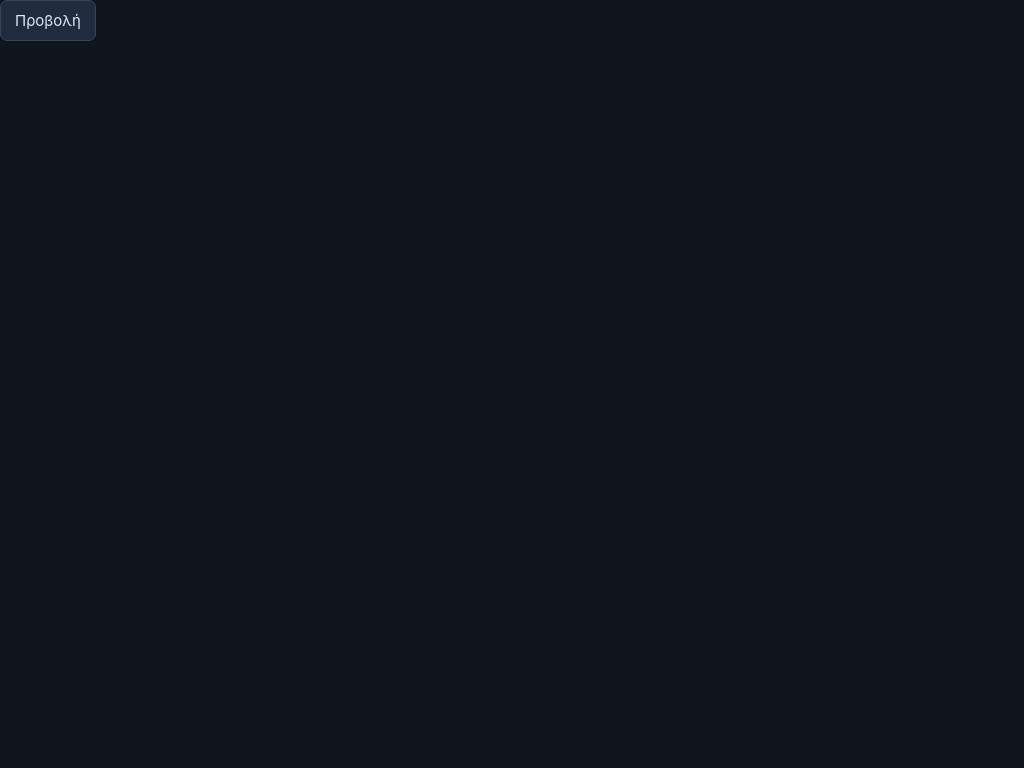
Test case: PDF preview controls and lifecycle › destroys a PDF that finishes loading after close rather than publishing stale content
Click the button "Προβολή". click: (48, 20)
box: [0,0,96,41]
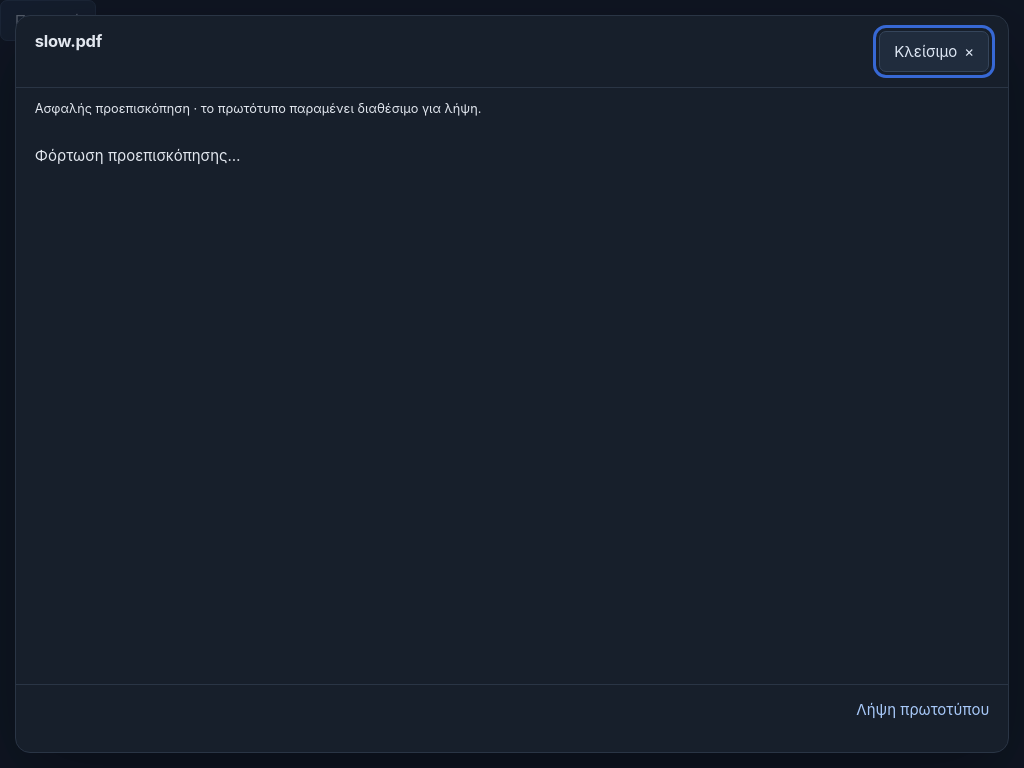
Click the button with aria-label "Κλείσιμο προεπισκόπησης". click: (934, 52)
box: [879,31,989,72]
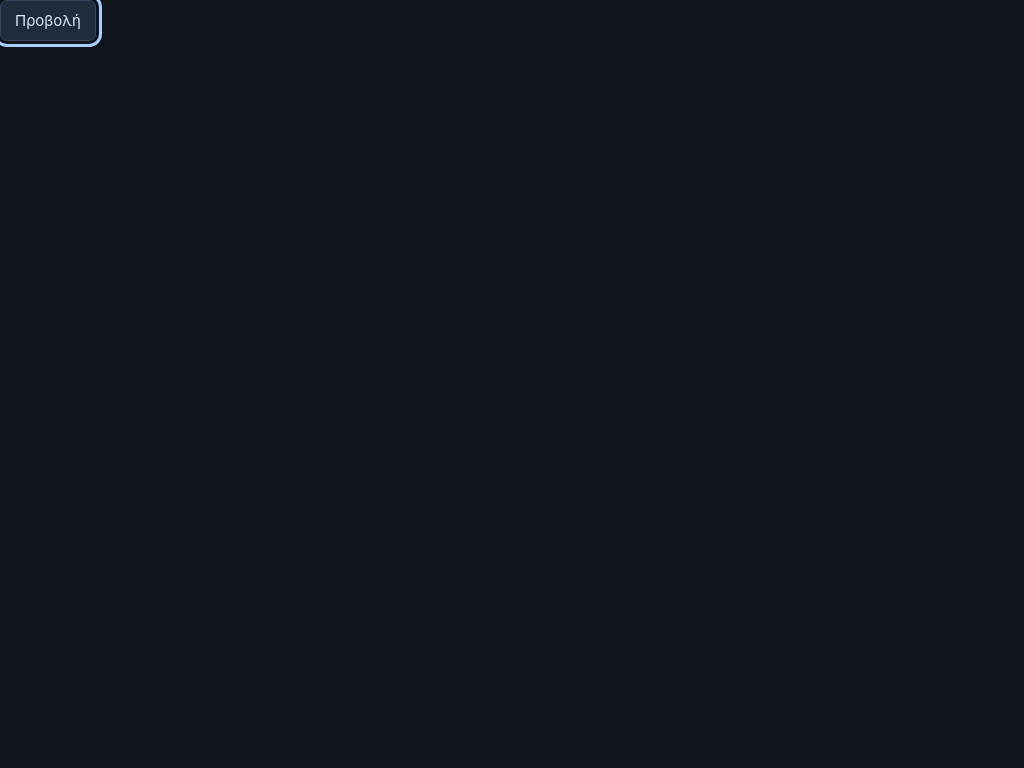
expect the dialog is gone: met
